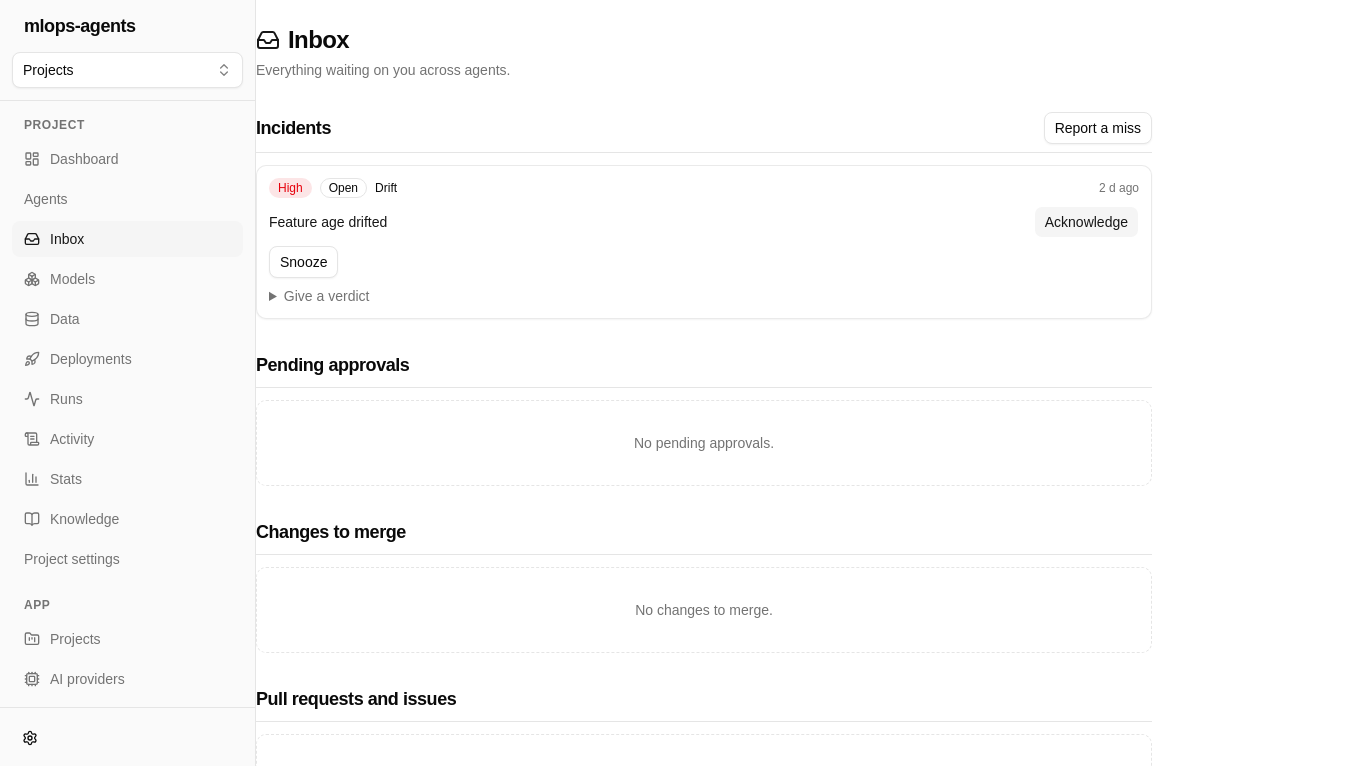
Scenario: Inbox incidents section › shows the server's refusal when snoozing fails
Click the button "Snooze" at (304, 262), box 269,246 -> 338,278
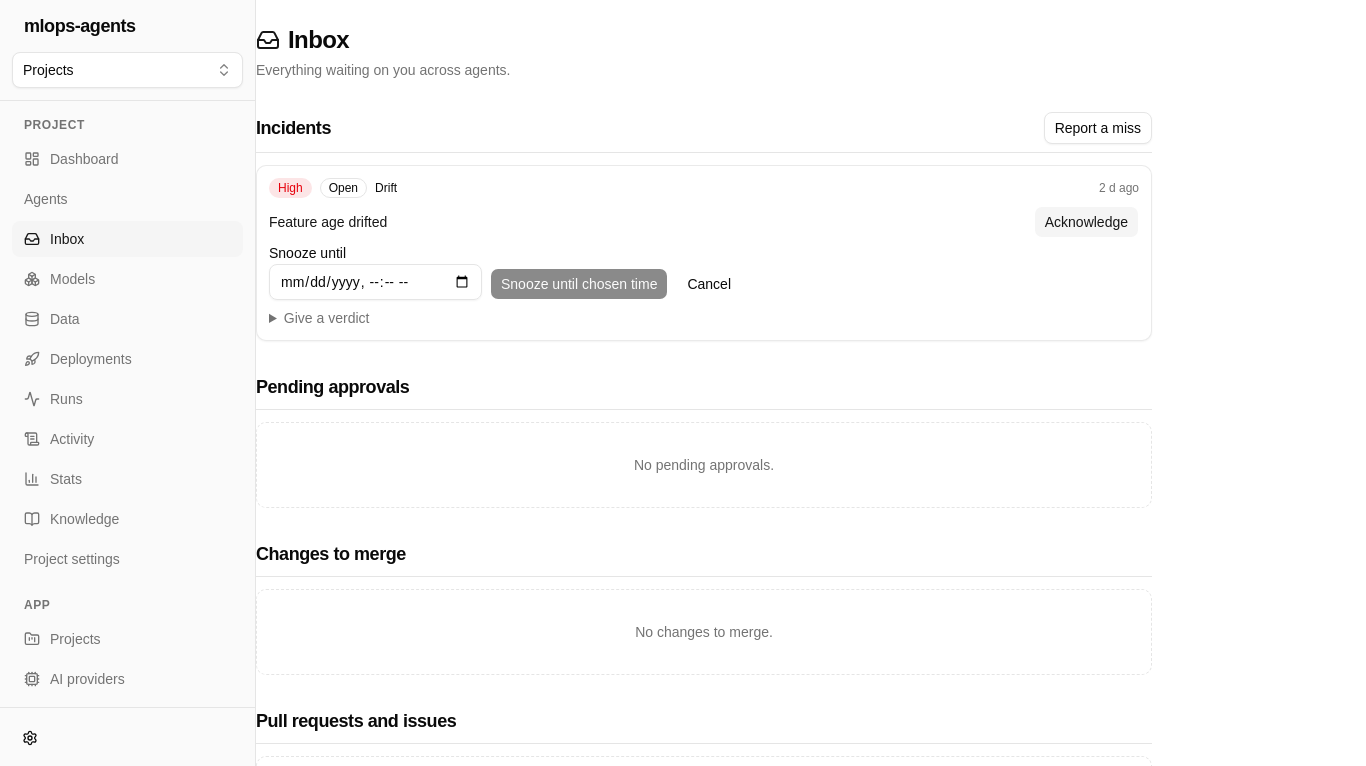
Type "2020-01-01T10:00" into the field labelled "Snooze until" at (376, 282), box 269,264 -> 482,300
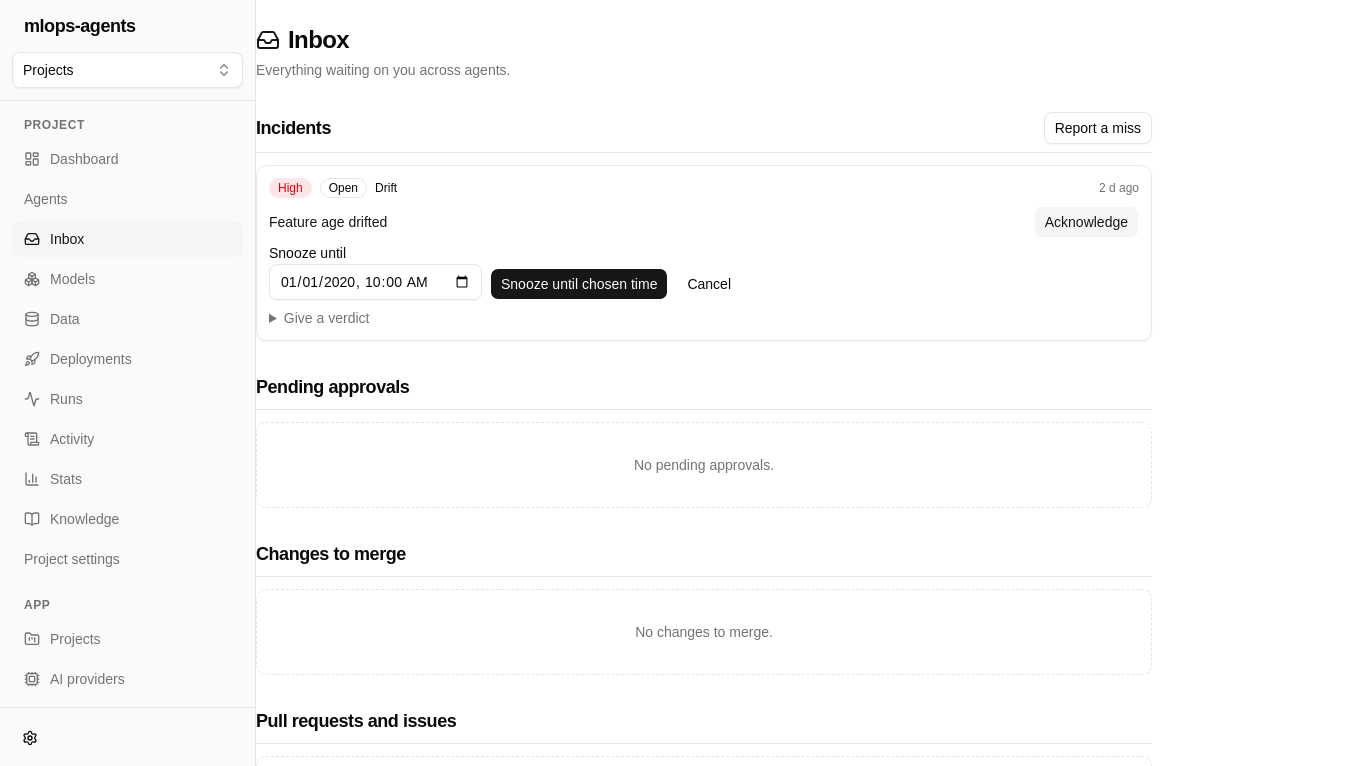
Click the button "Snooze until chosen time" at (579, 284), box 490,268 -> 668,300
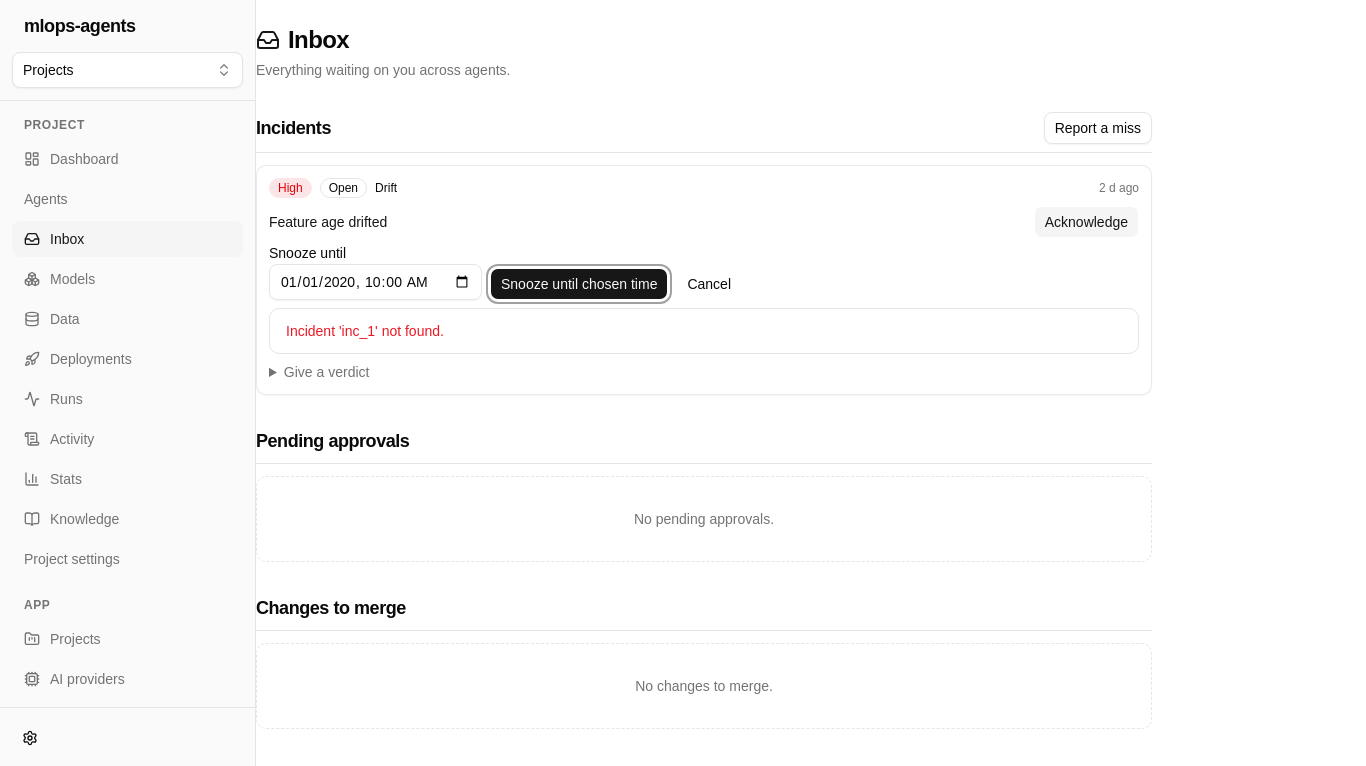
Expected: the text "Incident 'inc_1' not found." is shown, 286,323 -> 444,339
